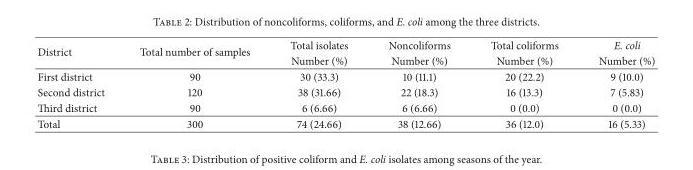table: (36, 36, 654, 131)
table column: (121, 36, 269, 131), (469, 36, 577, 131), (367, 36, 469, 131), (269, 36, 367, 131), (36, 36, 121, 131), (577, 36, 654, 131)
table column header: (36, 36, 654, 68)
table row: (36, 36, 654, 52), (36, 52, 654, 68), (36, 68, 654, 84), (36, 99, 654, 115), (36, 115, 654, 131), (36, 84, 654, 99)
table spanning cell: (121, 36, 269, 68), (469, 36, 577, 68), (367, 36, 469, 68), (269, 36, 367, 68), (36, 36, 121, 68), (577, 36, 654, 68)
